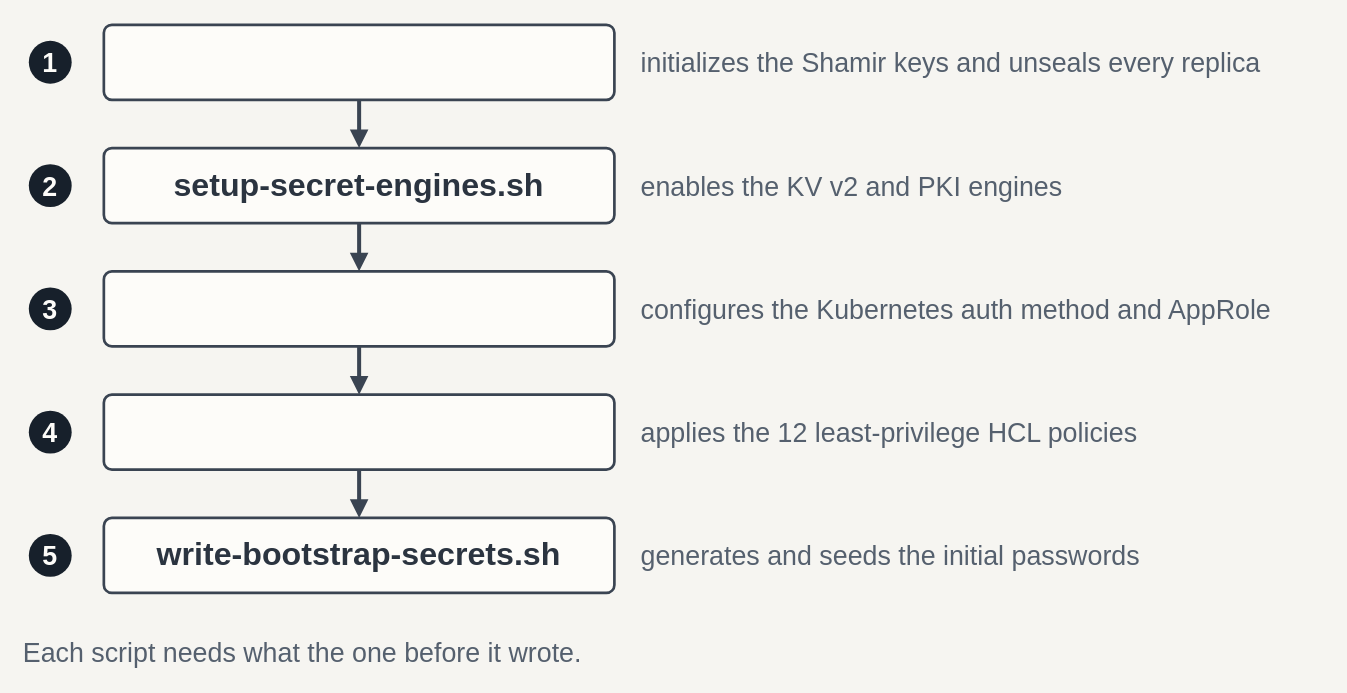
This 1347x693 diagram has some shape labels left out. Here are the shapes that lost their labels. From the top down, the centre of each, then its label:
At point (358, 61): "init-unseal.sh".
At point (358, 308): "setup-auth.sh".
At point (358, 431): "setup-policies.sh".
